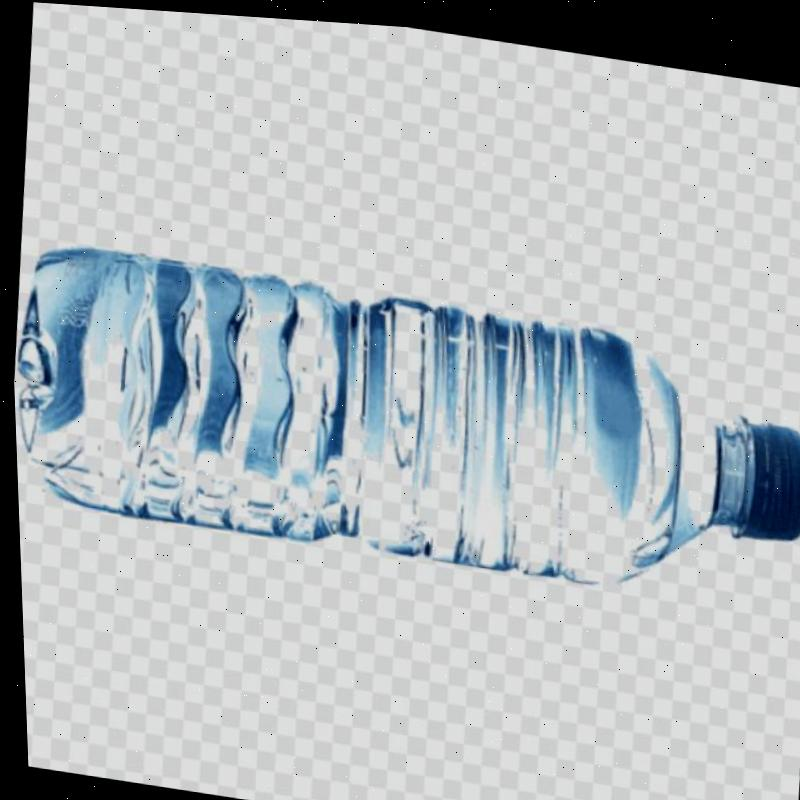botella: (7, 239, 800, 611)
